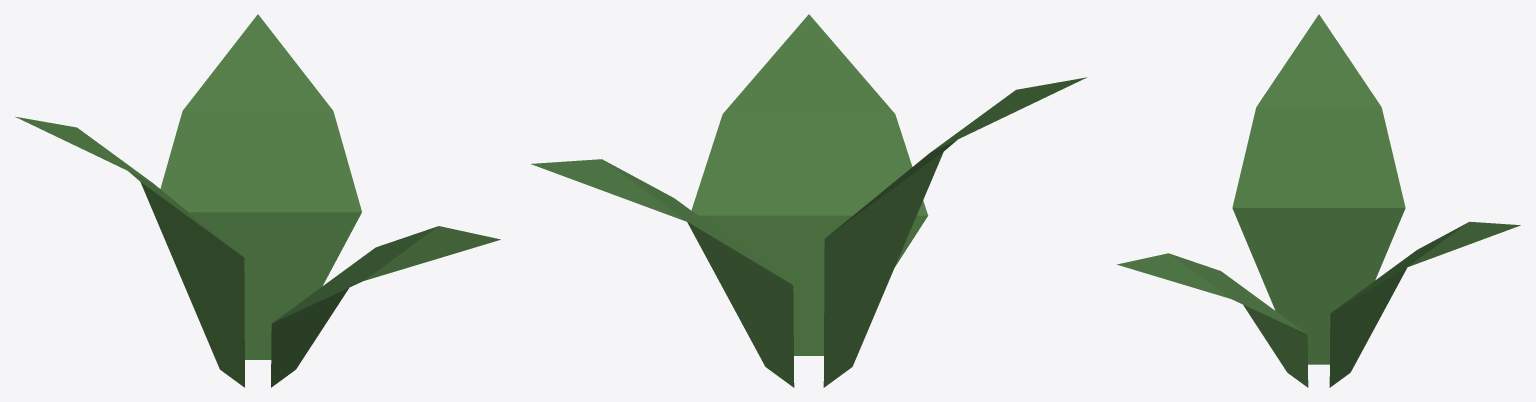
The model's file is nature-bush-clipped.glb.
3 views of the same model, side by side, from view 1: azimuth 30°, elevation 25°; view 2: azimuth 150°, elevation 25°; view 3: azimuth 270°, elevation 25° (orthographic). The views are drawn at different scales.
Parts seen in each view (by area): view 1: plant_bushTriangle; view 2: plant_bushTriangle; view 3: plant_bushTriangle.
Part boxes in pixels (x1,y1,x2,y2): plant_bushTriangle: [15, 14, 500, 387]; plant_bushTriangle: [531, 14, 1086, 387]; plant_bushTriangle: [1117, 14, 1520, 387].
Bounding box in the file's own units: 0.3644 × 0.2955 × 0.4136.
